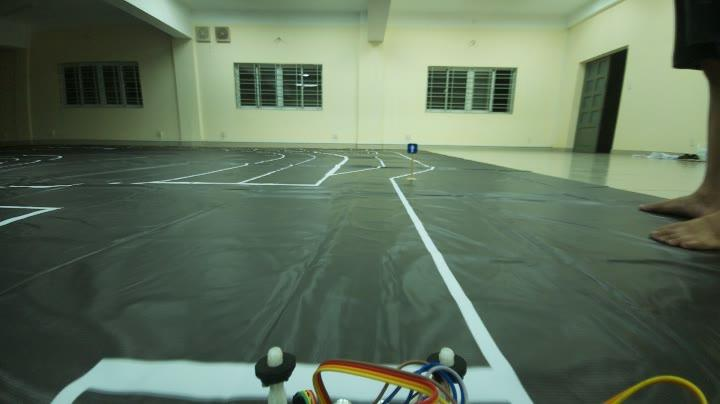onewayroad: (404, 142, 422, 156)
